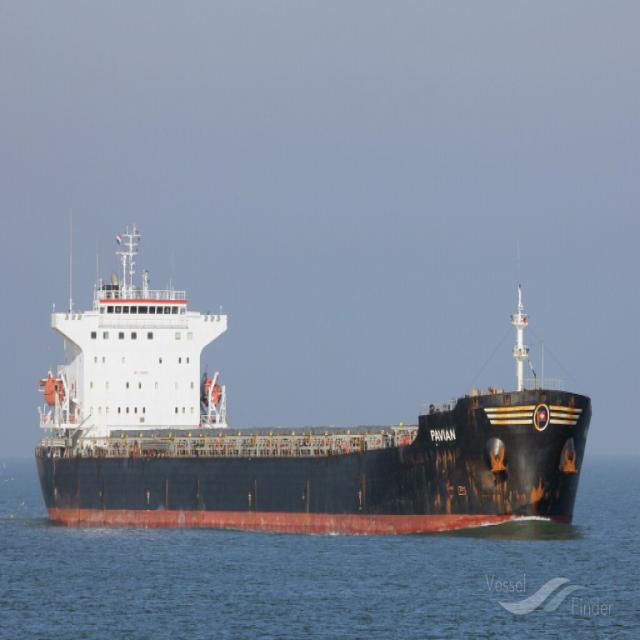OCR: (420, 422, 458, 446)
